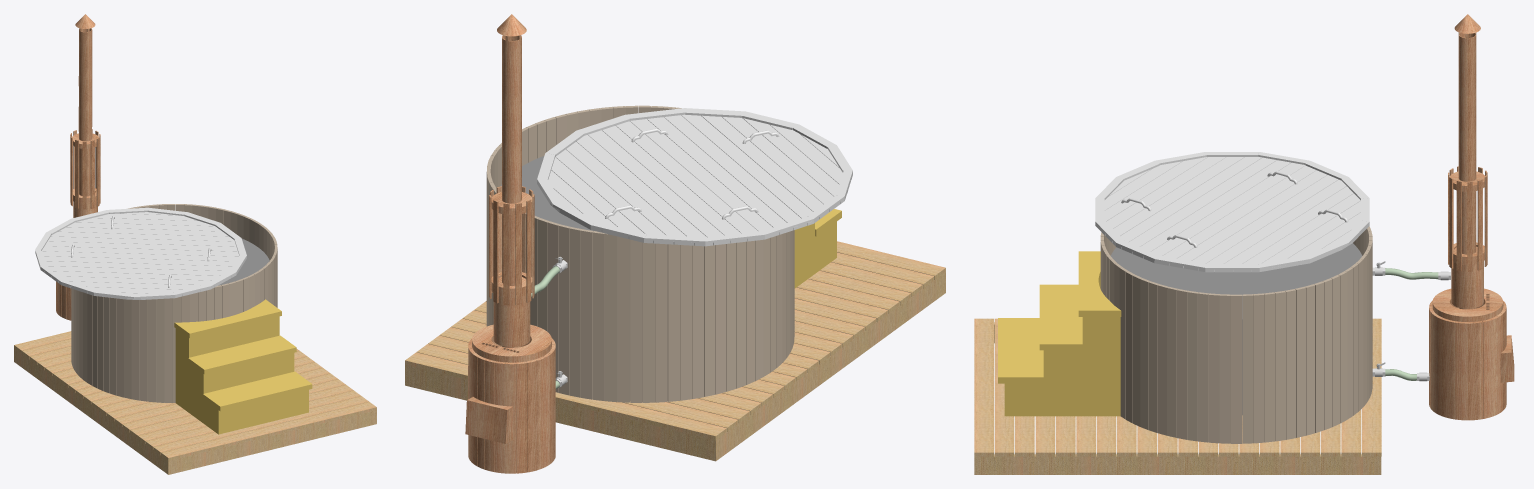
File: kup1.glb
The picture shows the model from 3 angles, left to right: view 1: azimuth 30°, elevation 25°; view 2: azimuth 150°, elevation 25°; view 3: azimuth 270°, elevation 25°; orthographic projection. The views are drawn at different scales.
Visible parts, largest first — view 1: geometry-lumionModel.032, geometry-lumionModel.052, geometry-lumionModel.006, geometry-lumionModel.005, geometry-lumionModel.004, geometry-lumionModel.007, geometry-lumionModel.008, geometry-lumionModel.049, geometry-lumionModel.051, geometry-lumionModel.040, geometry-lumionModel.016, geometry-lumionModel.017 (+17 smaller); view 2: geometry-lumionModel.032, geometry-lumionModel.005, geometry-lumionModel.004, geometry-lumionModel.007, geometry-lumionModel.006, geometry-lumionModel.008, geometry-lumionModel.039, geometry-lumionModel.040, geometry-lumionModel.016, geometry-lumionModel.015, geometry-lumionModel.017, geometry-lumionModel.047 (+18 smaller); view 3: geometry-lumionModel.032, geometry-lumionModel.004, geometry-lumionModel.005, geometry-lumionModel.006, geometry-lumionModel.008, geometry-lumionModel.007, geometry-lumionModel.052, geometry-lumionModel.039, geometry-lumionModel.009, geometry-lumionModel.040, geometry-lumionModel.016, geometry-lumionModel.015 (+21 smaller).
Part boxes in pixels (left/top/right/bottom): geometry-lumionModel.032: left=14, top=331, right=376, bottom=474; geometry-lumionModel.052: left=175, top=316, right=308, bottom=434; geometry-lumionModel.006: left=74, top=204, right=277, bottom=403; geometry-lumionModel.005: left=72, top=204, right=276, bottom=402; geometry-lumionModel.004: left=71, top=204, right=277, bottom=402; geometry-lumionModel.007: left=76, top=204, right=277, bottom=402; geometry-lumionModel.008: left=79, top=204, right=276, bottom=401; geometry-lumionModel.049: left=203, top=371, right=312, bottom=411; geometry-lumionModel.051: left=188, top=335, right=296, bottom=374; geometry-lumionModel.040: left=78, top=28, right=92, bottom=196; geometry-lumionModel.016: left=44, top=227, right=231, bottom=282; geometry-lumionModel.017: left=40, top=222, right=237, bottom=277; geometry-lumionModel.032: left=405, top=241, right=945, bottom=461; geometry-lumionModel.005: left=486, top=105, right=794, bottom=402; geometry-lumionModel.004: left=487, top=105, right=793, bottom=402; geometry-lumionModel.007: left=487, top=106, right=790, bottom=402; geometry-lumionModel.006: left=488, top=106, right=786, bottom=402; geometry-lumionModel.008: left=487, top=106, right=792, bottom=402; geometry-lumionModel.039: left=468, top=338, right=555, bottom=473; geometry-lumionModel.040: left=502, top=35, right=521, bottom=347; geometry-lumionModel.016: left=566, top=115, right=829, bottom=245; geometry-lumionModel.015: left=576, top=117, right=839, bottom=246; geometry-lumionModel.017: left=555, top=114, right=818, bottom=244; geometry-lumionModel.047: left=465, top=324, right=551, bottom=443; geometry-lumionModel.032: left=974, top=318, right=1381, bottom=474; geometry-lumionModel.004: left=1100, top=232, right=1372, bottom=443; geometry-lumionModel.005: left=1101, top=235, right=1372, bottom=443; geometry-lumionModel.006: left=1103, top=231, right=1372, bottom=443; geometry-lumionModel.008: left=1100, top=226, right=1369, bottom=443; geometry-lumionModel.007: left=1100, top=226, right=1371, bottom=443; geometry-lumionModel.052: left=1004, top=278, right=1120, bottom=416; geometry-lumionModel.039: left=1429, top=301, right=1506, bottom=420; geometry-lumionModel.009: left=1111, top=243, right=1362, bottom=414; geometry-lumionModel.040: left=1458, top=32, right=1476, bottom=309; geometry-lumionModel.016: left=1105, top=157, right=1353, bottom=272; geometry-lumionModel.015: left=1098, top=157, right=1346, bottom=272.
Bounding box in the file's own units: 2.55 × 3.2 × 4.01.
Materials: 54 (16 with a texture image).
